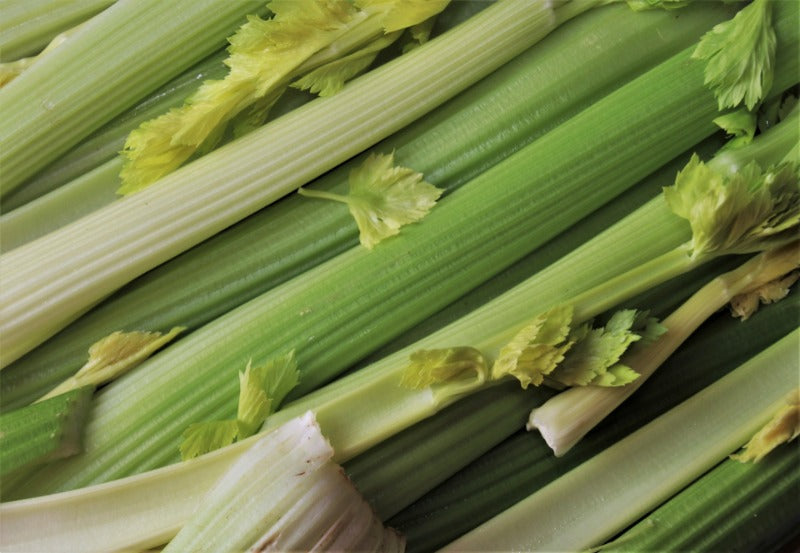Seledri: (212, 68, 800, 512)
